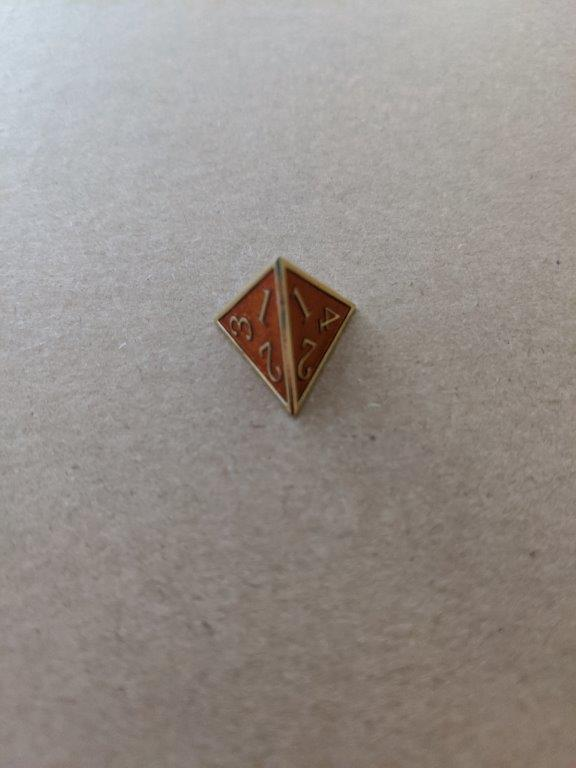d4-1: (209, 254, 357, 417)
